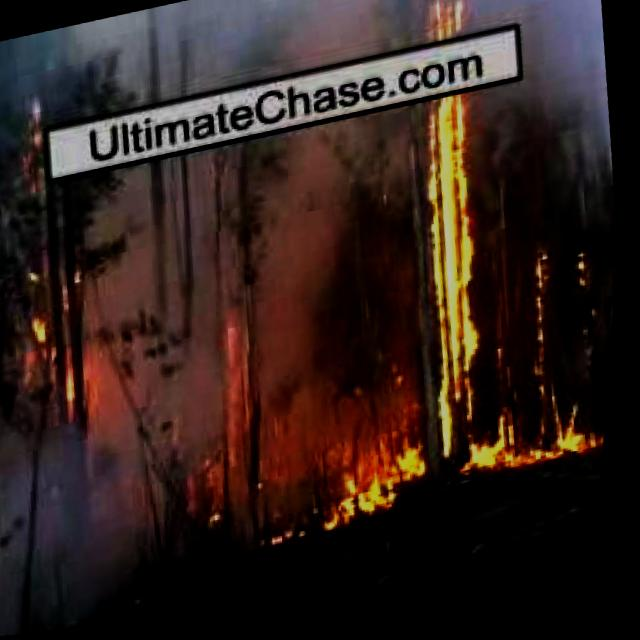helmet: (397, 94, 533, 488), (322, 440, 439, 529), (542, 390, 615, 476)
no_helmet: (0, 114, 448, 640)
